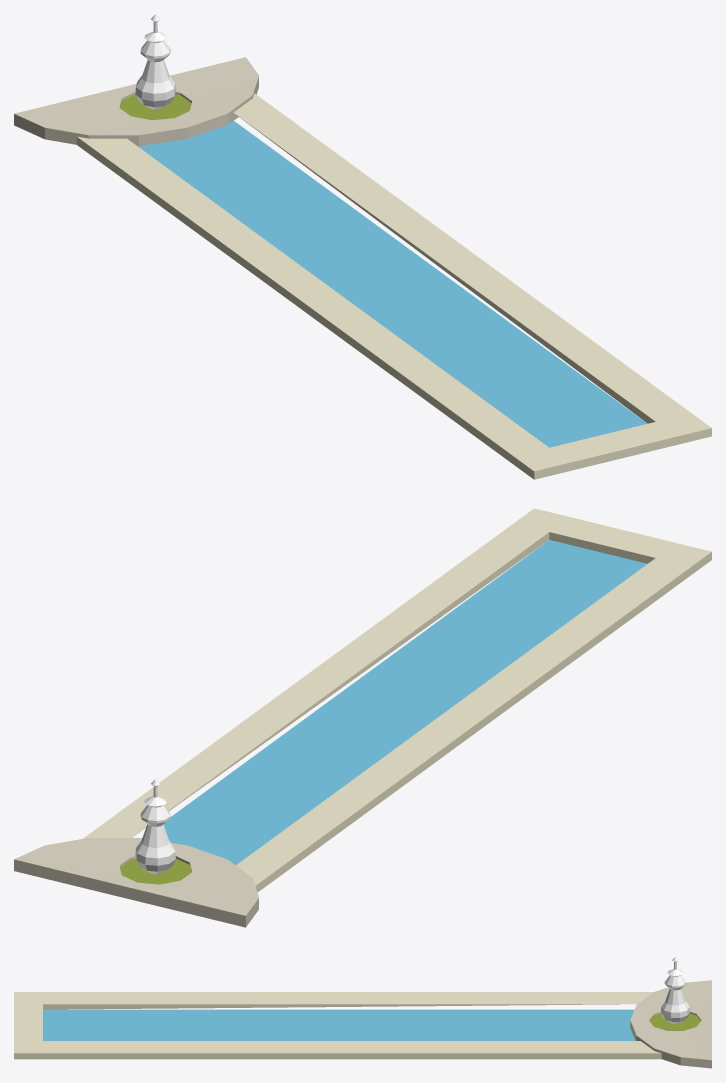
Rendered from tajpool.glb.
3 renders of one model, top to bottom at view 1: azimuth 30°, elevation 25°; view 2: azimuth 150°, elevation 25°; view 3: azimuth 270°, elevation 25°, orthographic. The views are drawn at different scales.
Bounding box in the file's own units: 2.32 × 0.9732 × 8.55.
